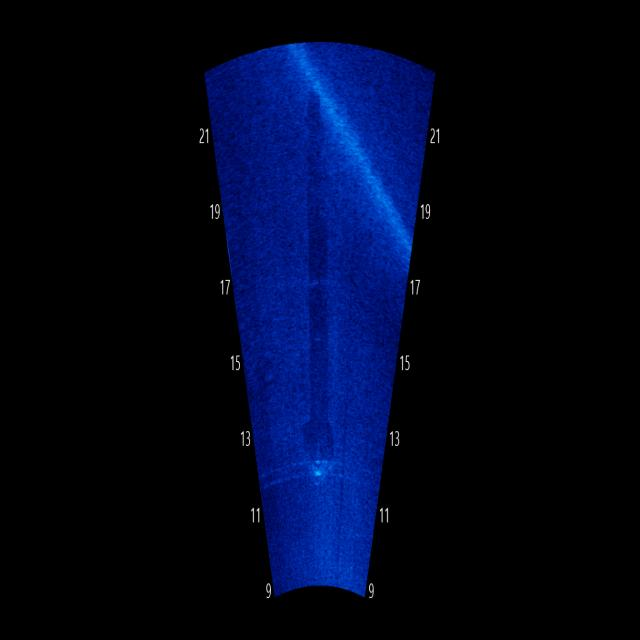square: (298, 418, 344, 494)
